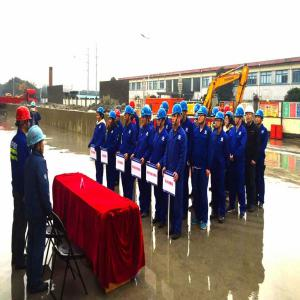blue: (27, 126, 46, 157), (173, 104, 183, 128), (141, 108, 151, 128), (157, 109, 167, 128), (199, 107, 209, 126), (180, 101, 189, 122), (215, 113, 225, 131), (235, 109, 245, 127), (255, 110, 265, 126), (124, 107, 133, 123), (225, 111, 233, 128), (162, 100, 170, 116), (109, 112, 117, 127), (212, 107, 219, 123), (98, 108, 105, 121), (195, 104, 201, 117), (195, 112, 200, 127), (31, 101, 37, 113)
red: (17, 106, 32, 133), (115, 109, 121, 123)
white: (245, 106, 256, 125)
